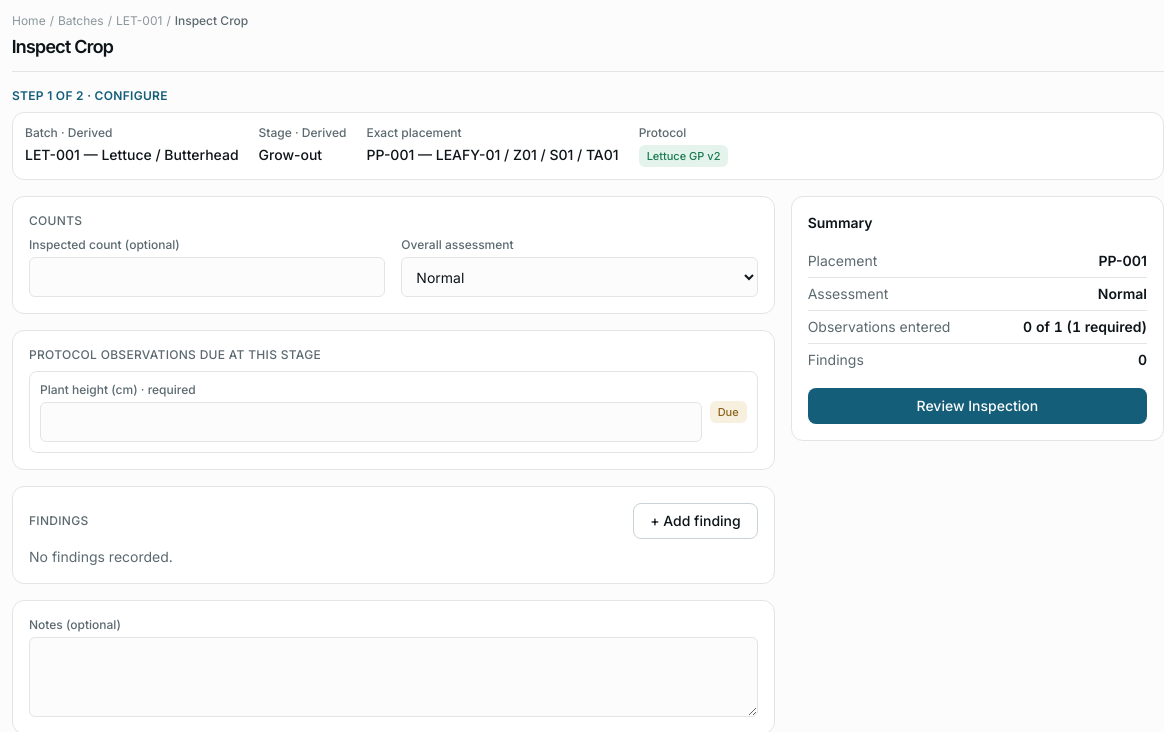
Scenario: InspectCropPage (UX-OPS-001C/R1) › shows the resolved carrier/location and submits exactly that assignment (inspection + observation values)
The width and height of the screenshot is (1164, 732).
Expected: the text with test id "inspection-target" reads "PP-001 — LEAFY-01 / Z01 / S01 / TA01", [366,144,619,164]
Expected: the number field labelled "Plant height (cm) · required" is shown, [40,402,702,442]
Type "20" into the field labelled "Inspected count (optional)". click: (207,277)
box: [29,257,385,297]
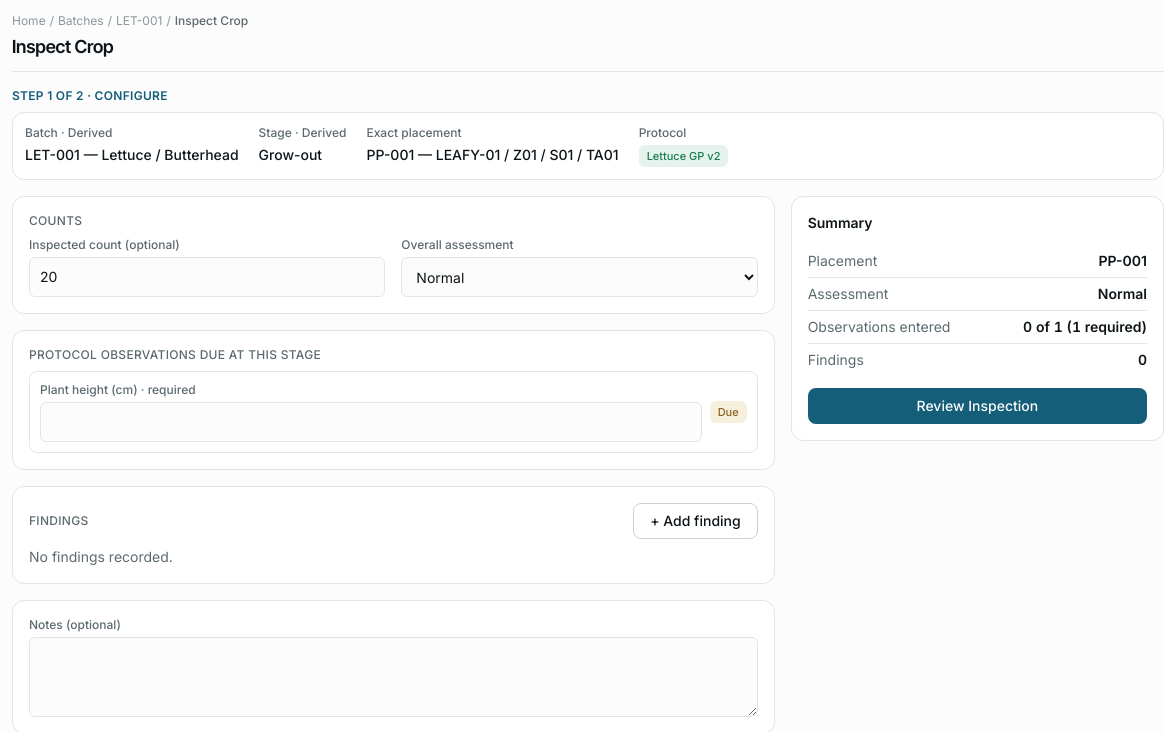
Type "14.5" into the number field labelled "Plant height (cm) · required". click: (371,422)
box: [40,402,702,442]
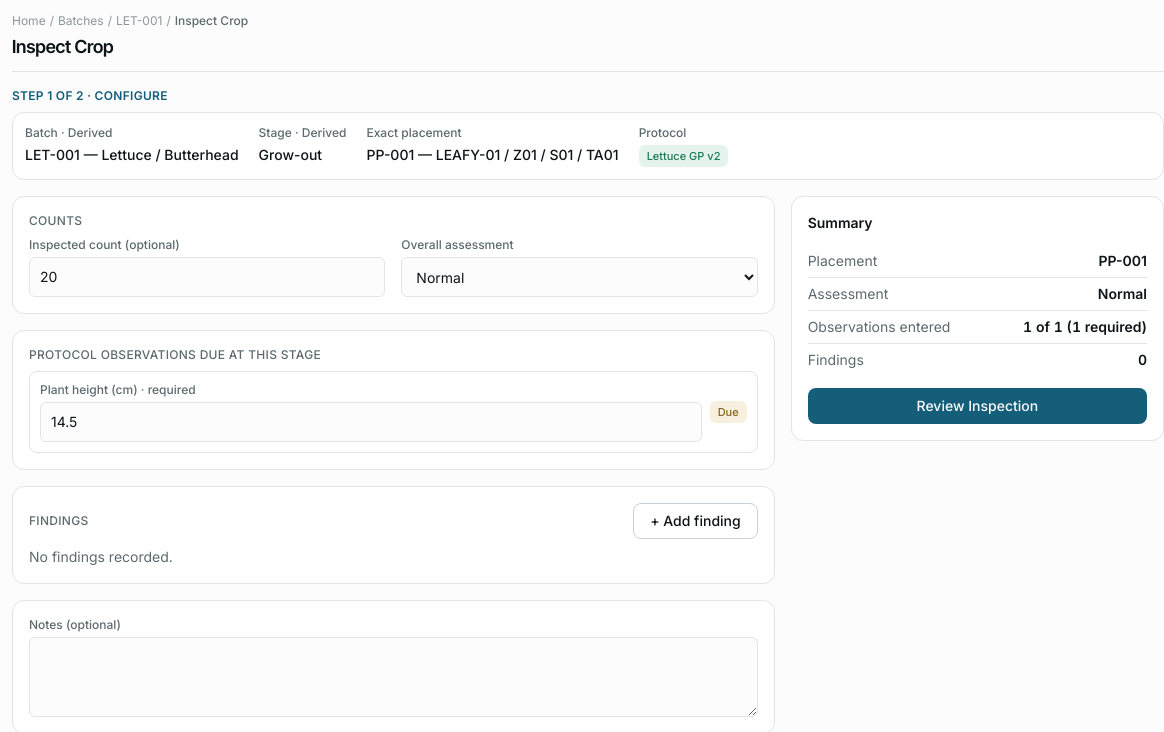
Click the button "Review Inspection". click: (977,406)
box: [808,388,1147,424]
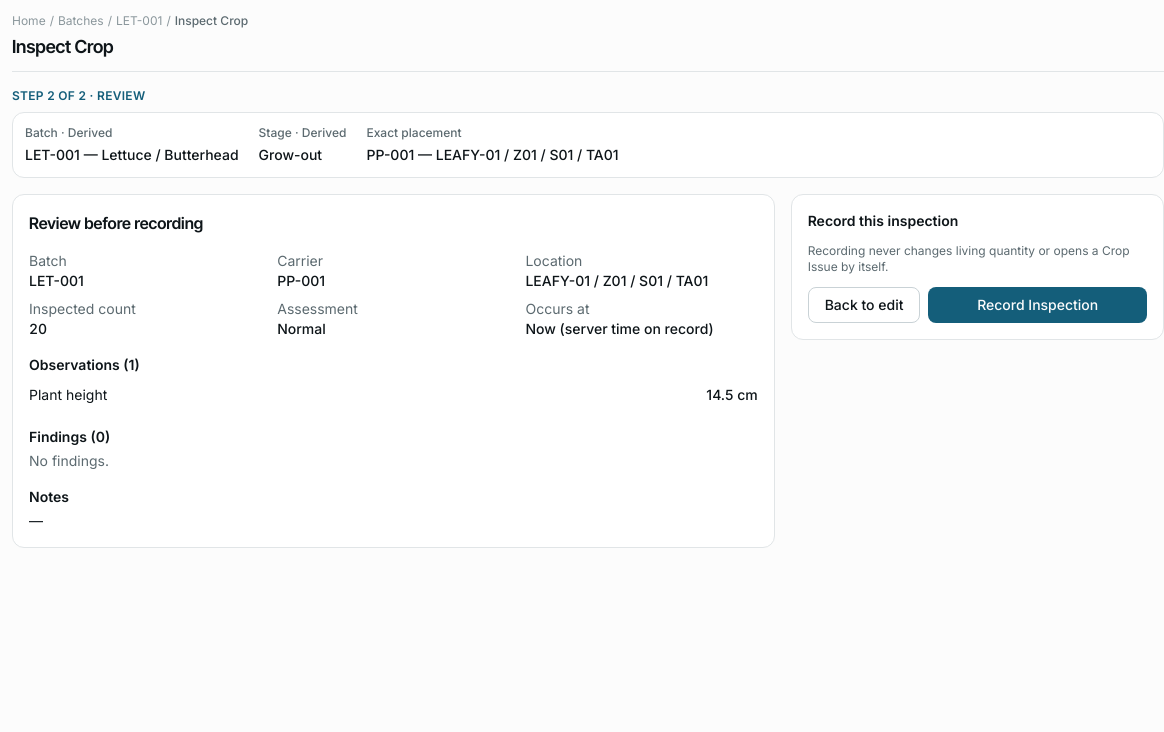
Expected: the text "PP-001" is shown, [277,272,325,288]
Now the heading "Review before recording" is shown, box [29,212,203,232]
Now the text "14.5 cm" is shown, box [706,384,758,404]
Click the button "Record Inspection". click: (1038,304)
box: [928,286,1147,322]
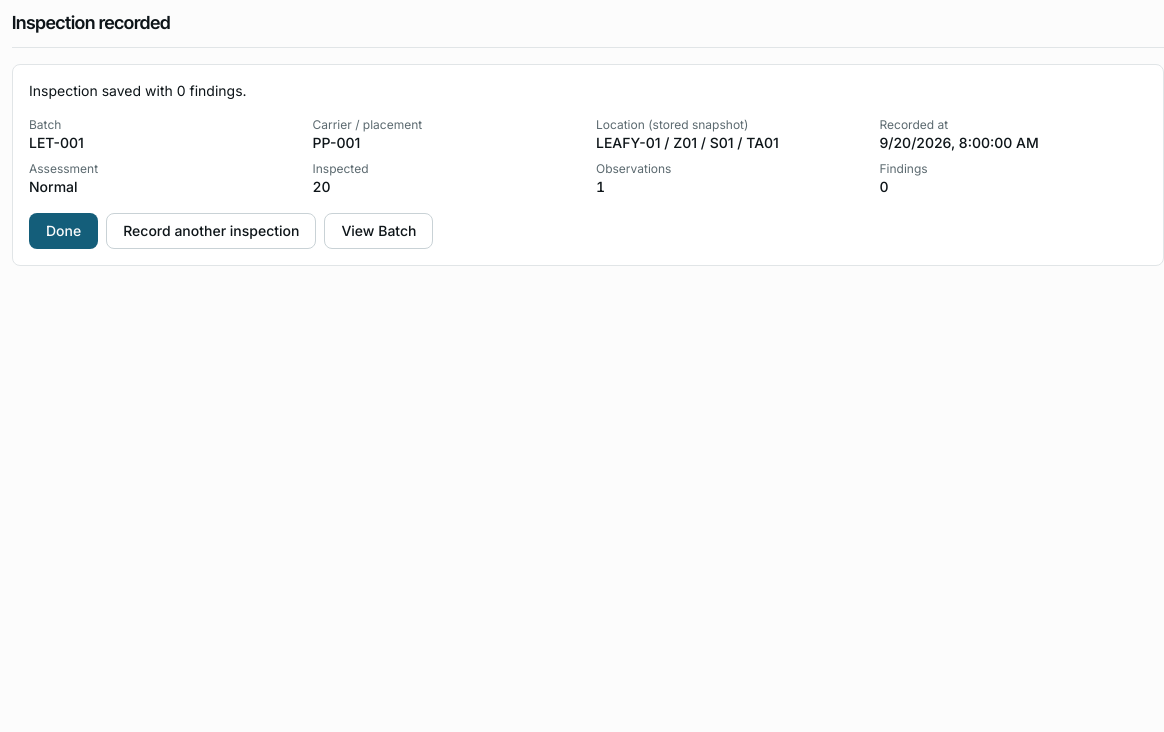
Now the heading "Inspection recorded" is shown, box [12,12,170,34]
